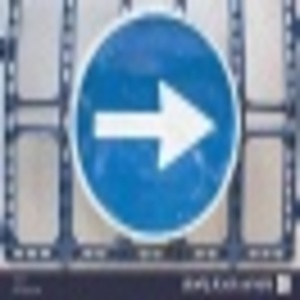trun_right: (70, 9, 240, 245)
